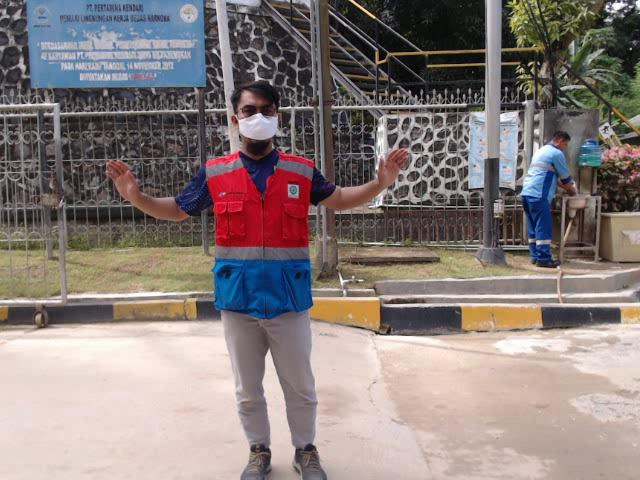mask: (238, 115, 278, 139)
safety-shoes: (291, 441, 330, 480), (239, 439, 275, 480)
